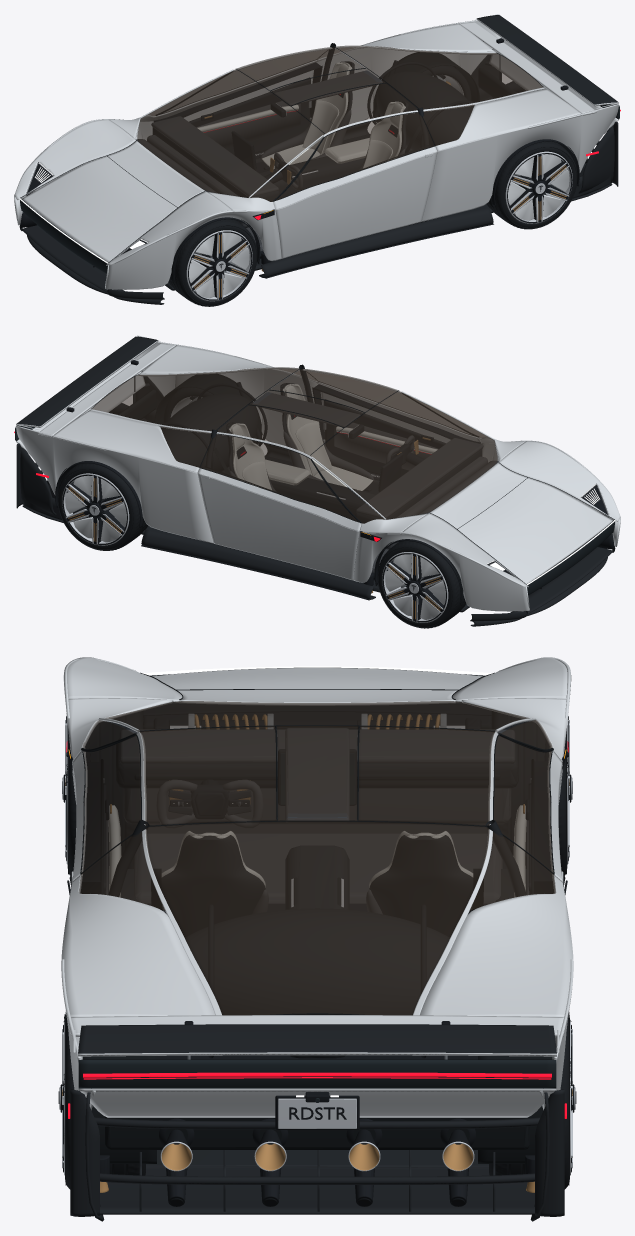
The model's file is roadster_animated.glb.
The picture shows the model from 3 angles, top to bottom: view 1: azimuth 30°, elevation 25°; view 2: azimuth 150°, elevation 25°; view 3: azimuth 270°, elevation 25°; orthographic projection. The views are drawn at different scales.
Parts seen in each view (by area): view 1: Windshield • optimized, RIG • sprung chassis • baked / 03 • optimized, RIG • sprung chassis • baked / 06 • optimized, Hood • central wedge • optimized, Door outer skin.LEFT • optimized, Rear glass • optimized, Rear quarter.LEFT • optimized, WHEEL_RL • spin about local Y • baked / 04 • optimized, WHEEL_FL • spin about local Y • baked / 04 • optimized, Door frameless window.LEFT • optimized, RIG • RIGHT door hinge • baked / 06 • optimized, RIG • sprung chassis • baked / 07 • optimized (+27 smaller); view 2: Windshield • optimized, RIG • sprung chassis • baked / 03 • optimized, RIG • sprung chassis • baked / 06 • optimized, Hood • central wedge • optimized, Door outer skin.RIGHT • optimized, Rear glass • optimized, Rear quarter.RIGHT • optimized, WHEEL_FR • spin about local Y • baked / 04 • optimized, WHEEL_RR • spin about local Y • baked / 04 • optimized, Door frameless window.RIGHT • optimized, RIG • sprung chassis • baked / 07 • optimized, RIG • LEFT door hinge • baked / 06 • optimized (+27 smaller); view 3: Rear glass • optimized, RIG • sprung chassis • baked / 06 • optimized, RIG • sprung chassis • baked / 03 • optimized, RIG • sprung chassis • baked / 07 • optimized, RIG • sprung chassis • baked / 05 • optimized, Wing • optimized, Fixed upper belt.RIGHT0.618 • optimized, Fixed upper belt.LEFT0.618 • optimized, Door roof glass leaf.LEFT • optimized, Door roof glass leaf.RIGHT • optimized, Rear bumper silver valance • optimized, Hood • central wedge • optimized (+28 smaller).
Boxes of the visible parts, <box> form: Windshield • optimized: <box>137,69,324,197</box>; RIG • sprung chassis • baked / 03 • optimized: <box>19,49,618,304</box>; RIG • sprung chassis • baked / 06 • optimized: <box>136,43,428,260</box>; Hood • central wedge • optimized: <box>22,141,204,262</box>; Door outer skin.LEFT • optimized: <box>275,151,437,258</box>; Rear glass • optimized: <box>335,45,542,109</box>; Rear quarter.LEFT • optimized: <box>421,104,618,221</box>; WHEEL_RL • spin about local Y • baked / 04 • optimized: <box>487,141,577,229</box>; WHEEL_FL • spin about local Y • baked / 04 • optimized: <box>168,219,257,306</box>; Door frameless window.LEFT • optimized: <box>276,112,434,200</box>; RIG • RIGHT door hinge • baked / 06 • optimized: <box>154,62,322,154</box>; RIG • sprung chassis • baked / 07 • optimized: <box>261,38,566,271</box>; Windshield • optimized: <box>310,391,497,519</box>; RIG • sprung chassis • baked / 03 • optimized: <box>16,371,615,626</box>; RIG • sprung chassis • baked / 06 • optimized: <box>206,364,498,580</box>; Hood • central wedge • optimized: <box>430,462,612,583</box>; Door outer skin.RIGHT • optimized: <box>197,473,359,580</box>; Rear glass • optimized: <box>92,367,299,431</box>; Rear quarter.RIGHT • optimized: <box>16,425,213,543</box>; WHEEL_FR • spin about local Y • baked / 04 • optimized: <box>377,541,466,628</box>; WHEEL_RR • spin about local Y • baked / 04 • optimized: <box>57,463,148,550</box>; Door frameless window.RIGHT • optimized: <box>200,434,358,521</box>; RIG • sprung chassis • baked / 07 • optimized: <box>68,360,373,593</box>; RIG • LEFT door hinge • baked / 06 • optimized: <box>312,384,480,476</box>; Rear glass • optimized: <box>145,821,489,1015</box>; RIG • sprung chassis • baked / 06 • optimized: <box>81,728,553,1059</box>; RIG • sprung chassis • baked / 03 • optimized: <box>67,674,567,1221</box>; RIG • sprung chassis • baked / 07 • optimized: <box>100,714,534,1206</box>; RIG • sprung chassis • baked / 05 • optimized: <box>66,666,568,1118</box>; Wing • optimized: <box>78,1024,556,1056</box>; Fixed upper belt.RIGHT0.618 • optimized: <box>420,875,573,1017</box>; Fixed upper belt.LEFT0.618 • optimized: <box>61,875,214,1017</box>; Door roof glass leaf.LEFT • optimized: <box>140,726,276,825</box>; Door roof glass leaf.RIGHT • optimized: <box>358,726,494,825</box>; Rear bumper silver valance • optimized: <box>78,1088,556,1117</box>; Hood • central wedge • optimized: <box>152,667,482,705</box>.
Size of the model in its own units: 4.72 by 1.22 by 2.09.
